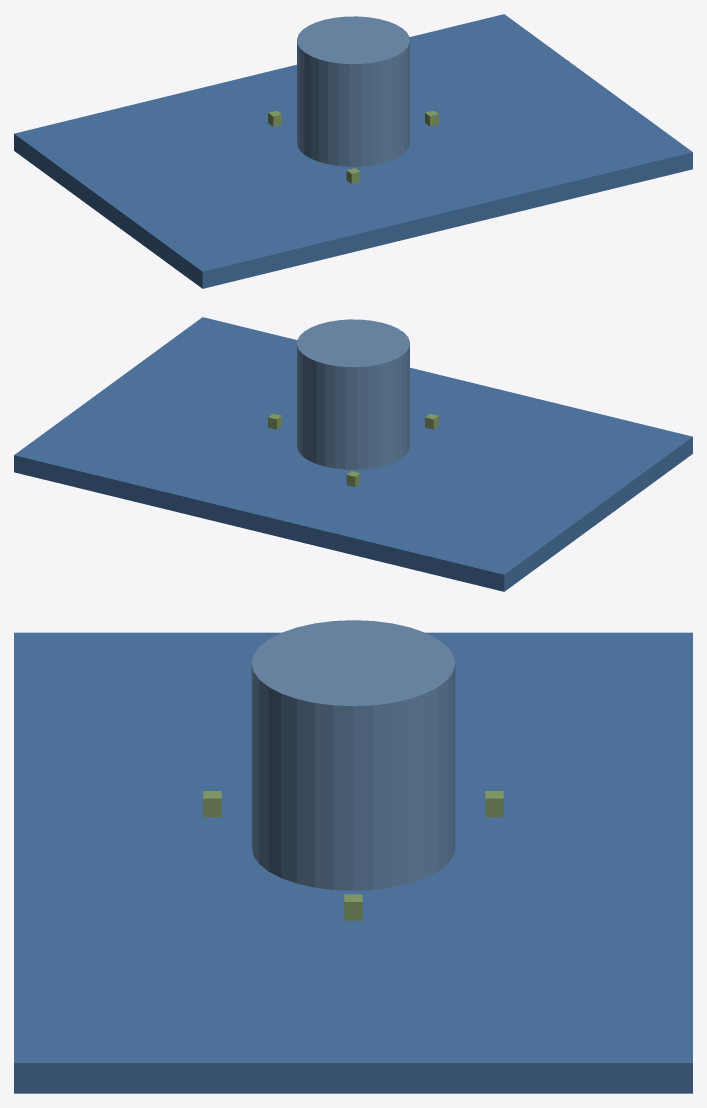
3 views of the same model, one above another, from view 1: azimuth 30°, elevation 25°; view 2: azimuth 150°, elevation 25°; view 3: azimuth 270°, elevation 25° (orthographic). The views are drawn at different scales.
Visible parts, largest first — view 1: platform, container; view 2: platform, container; view 3: platform, container.
Boxes of the visible parts, <box> form: platform: <box>14,14,692,288</box>; container: <box>297,16,409,166</box>; platform: <box>14,317,692,591</box>; container: <box>297,319,409,469</box>; platform: <box>14,632,692,1093</box>; container: <box>251,620,455,890</box>.
Size of the model in its own units: 600 by 140 by 400.
